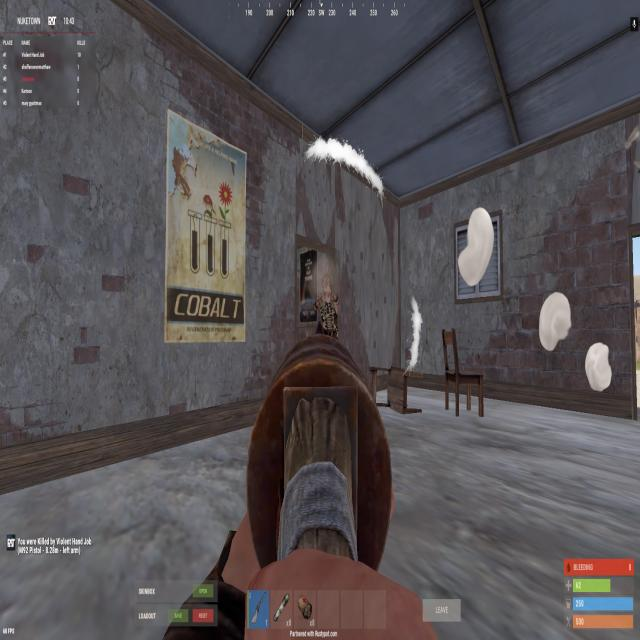Player: (312, 267, 341, 342)
